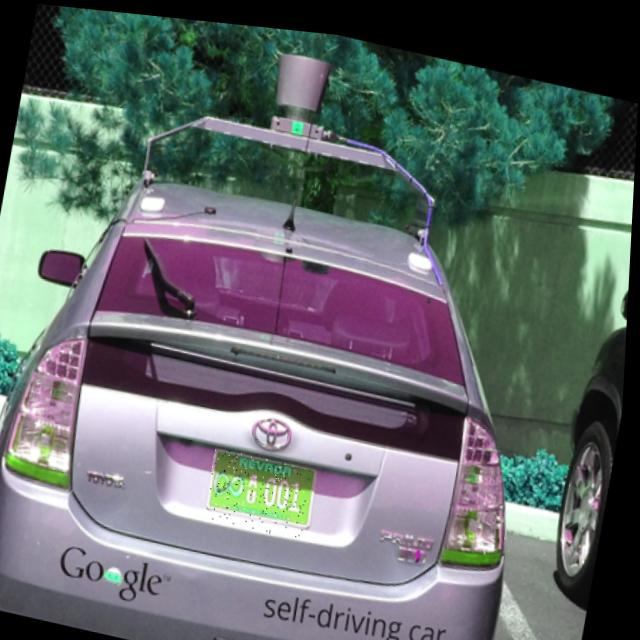license_plate: (207, 441, 321, 534)
